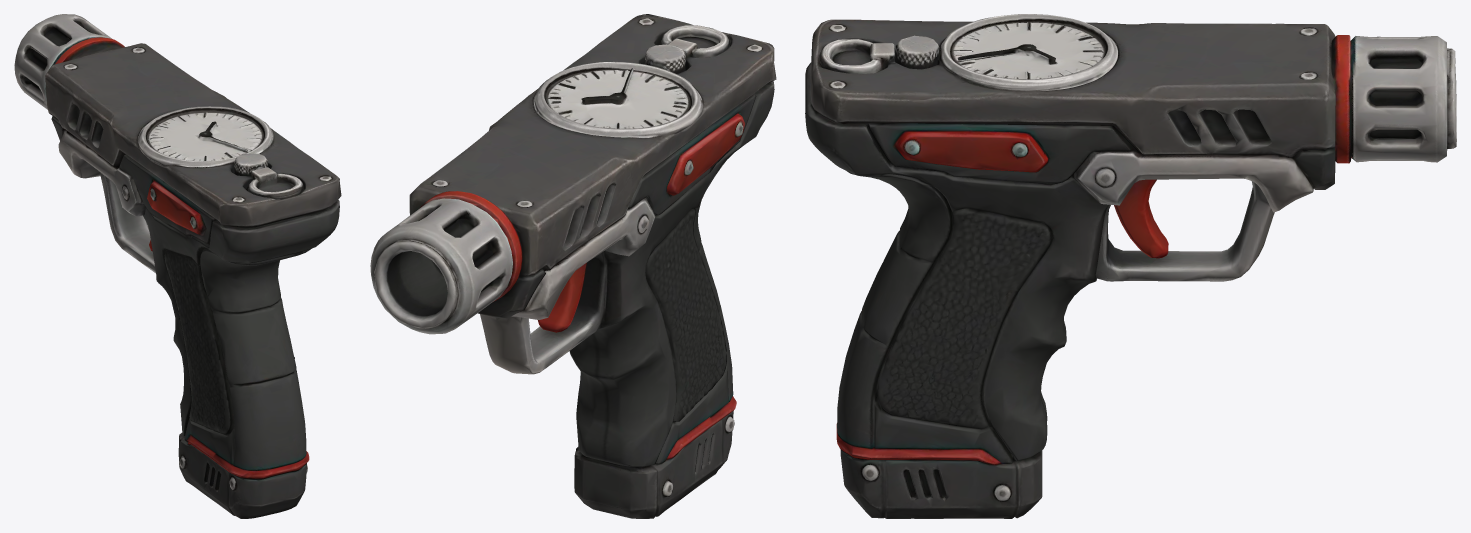
Rendered from weapon-stopwatch.glb.
3 renders of one model, left to right at view 1: azimuth 30°, elevation 25°; view 2: azimuth 150°, elevation 25°; view 3: azimuth 270°, elevation 25°, orthographic. The views are drawn at different scales.
Parts seen in each view (by area): view 1: tripo_node_308a7ac1-4f10-42d9-8e73-0d103ea06070; view 2: tripo_node_308a7ac1-4f10-42d9-8e73-0d103ea06070; view 3: tripo_node_308a7ac1-4f10-42d9-8e73-0d103ea06070.
Part boxes in pixels (x1,y1,x2,y2): tripo_node_308a7ac1-4f10-42d9-8e73-0d103ea06070: (14,14,341,518); tripo_node_308a7ac1-4f10-42d9-8e73-0d103ea06070: (370,14,776,518); tripo_node_308a7ac1-4f10-42d9-8e73-0d103ea06070: (805,14,1456,518).
Size of the model in its own units: 0.0702 by 0.1864 by 0.24.
Materials: 1 (1 with a texture image).
